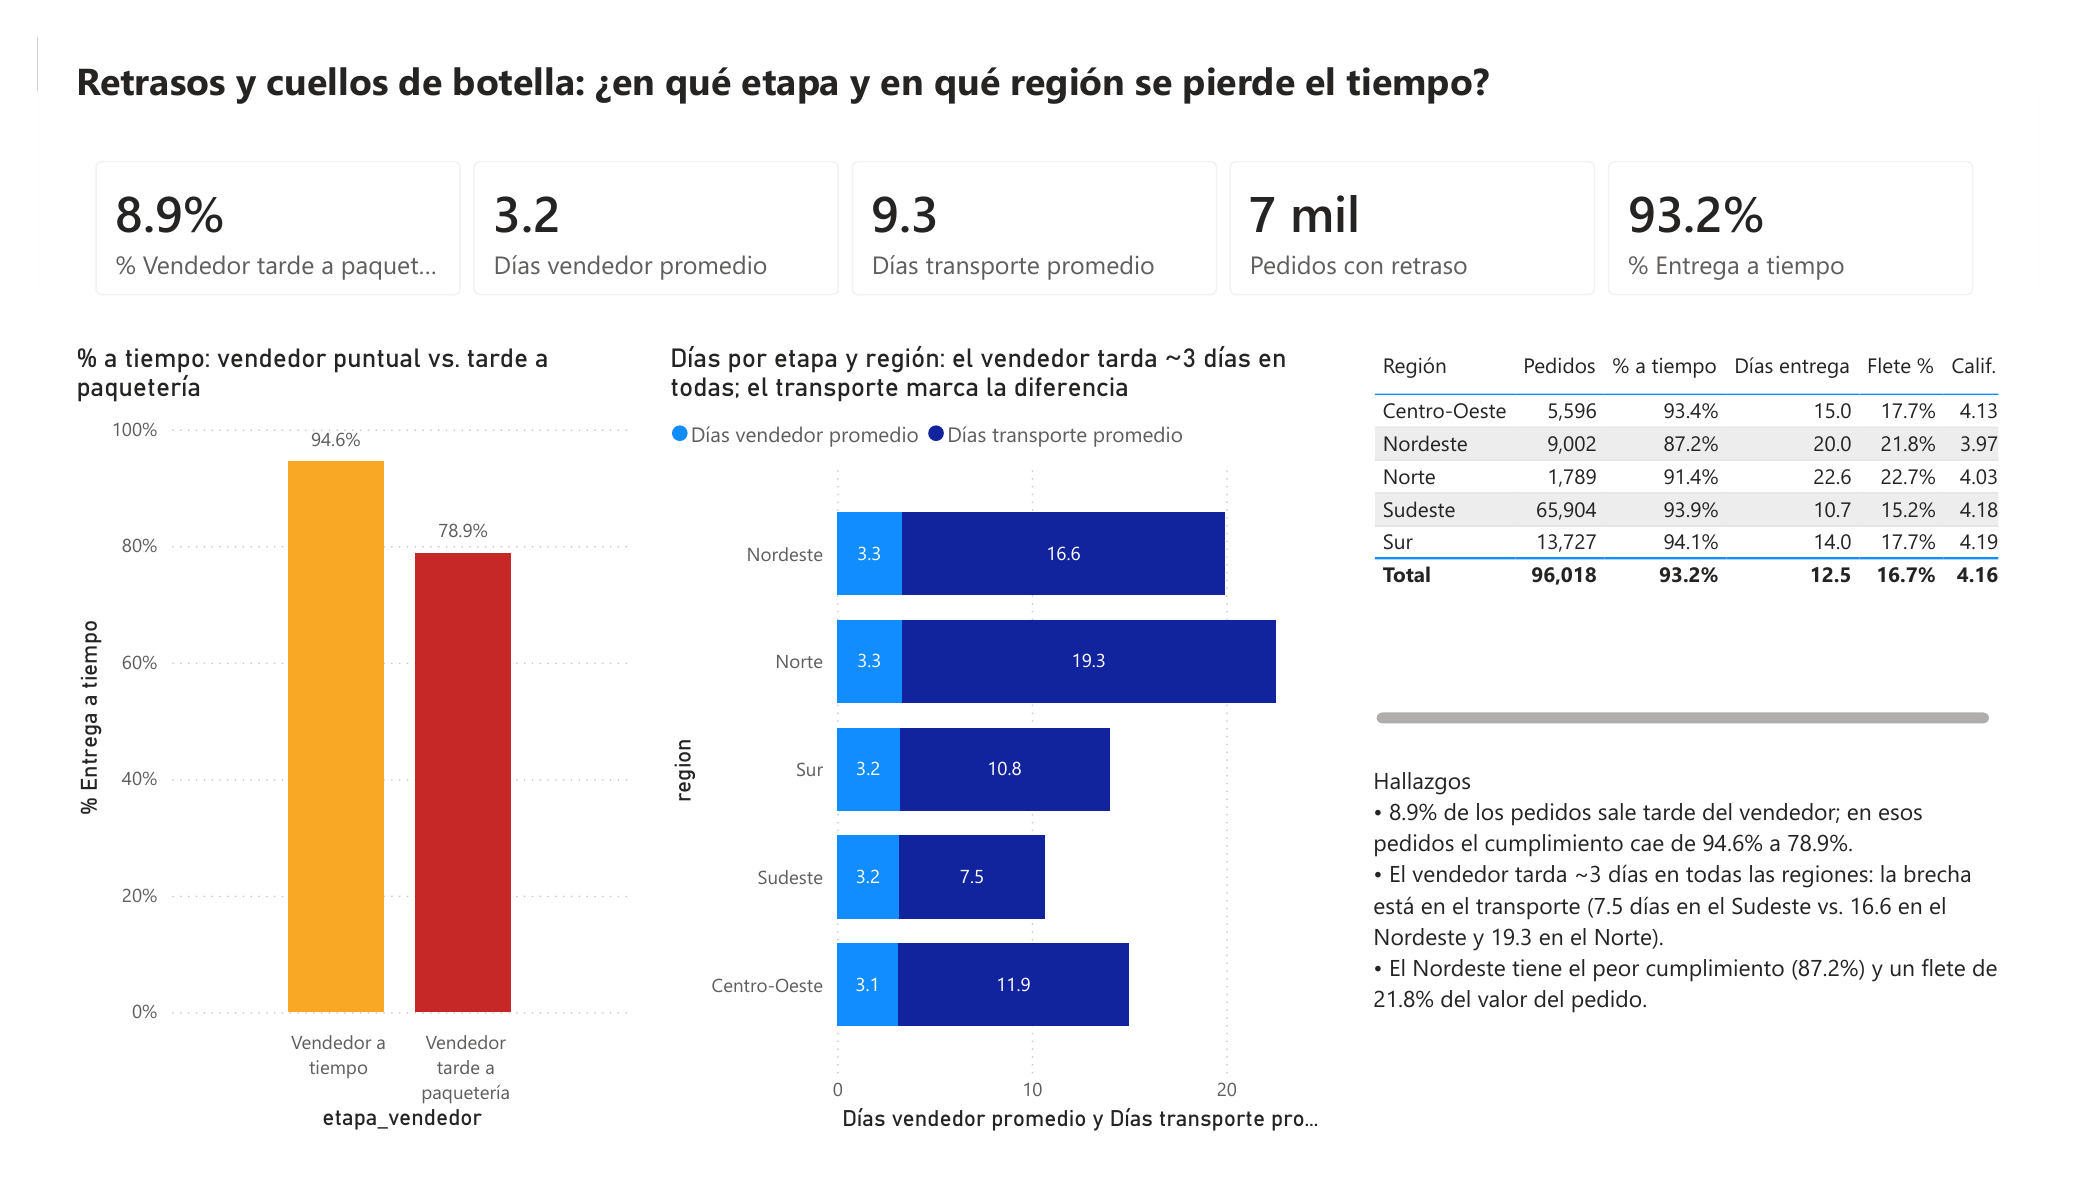

What the dashboard file says about the page in this screenshot:
{"tool":"powerbi","page":{"name":"Retrasos y cuellos de botella","canvas":[1280,720],"ordinal":1},"visuals":[{"type":"cardVisual","fields":{"Data":["_Medidas.% Vendedor tarde a paquetería","_Medidas.Días vendedor promedio","_Medidas.Días transporte promedio","_Medidas.Pedidos con retraso","_Medidas.% Entrega a tiempo"]},"box":[20,62,1240,120],"z":0},{"type":"clusteredColumnChart","title":"% a tiempo: vendedor puntual vs. tarde a paquetería","fields":{"Y":["_Medidas.% Entrega a tiempo"],"Category":["vw_pedidos.etapa_vendedor"]},"box":[20,195,365,510],"z":1},{"type":"barChart","title":"Días por etapa y región: el vendedor tarda ~3 días en todas; el transporte marca la diferencia","fields":{"Y":["_Medidas.Días vendedor promedio","_Medidas.Días transporte promedio"],"Category":["dim_estados.region"]},"box":[400,195,435,510],"z":2},{"type":"tableEx","fields":{"Values":["dim_estados.region","_Medidas.Pedidos","_Medidas.% Entrega a tiempo","_Medidas.Días de entrega promedio","_Medidas.Flete % del valor","_Medidas.Calificación promedio"]},"box":[850,195,410,250],"z":3},{"type":"textbox","box":[850,460,410,245],"z":4},{"type":"textbox","box":[20,6,1240,50],"z":5}]}

Visuals, with their boxes on the page's 1280x720 design canvas (x1, y1, x2, y2). These are canvas units, not pixel positions in the 2075x1200 screenshot, which may show the page scaled, cropped or inside an application window:
cardVisual - _Medidas.% Vendedor tarde a paquetería x _Medidas.Días vendedor promedio: crop(20, 62, 1260, 182)
"% a tiempo: vendedor puntual vs. tarde a paquetería" clusteredColumnChart: crop(20, 195, 385, 705)
"Días por etapa y región: el vendedor tarda ~3 días en todas; el transporte marca la diferencia" barChart: crop(400, 195, 835, 705)
tableEx - dim_estados.region x _Medidas.Pedidos: crop(850, 195, 1260, 445)
textbox: crop(850, 460, 1260, 705)
textbox: crop(20, 6, 1260, 56)
